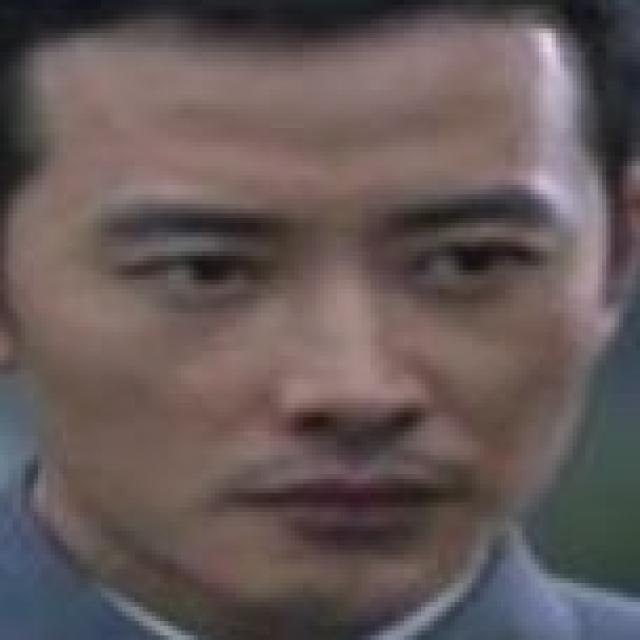no_mask: (19, 49, 598, 610)
